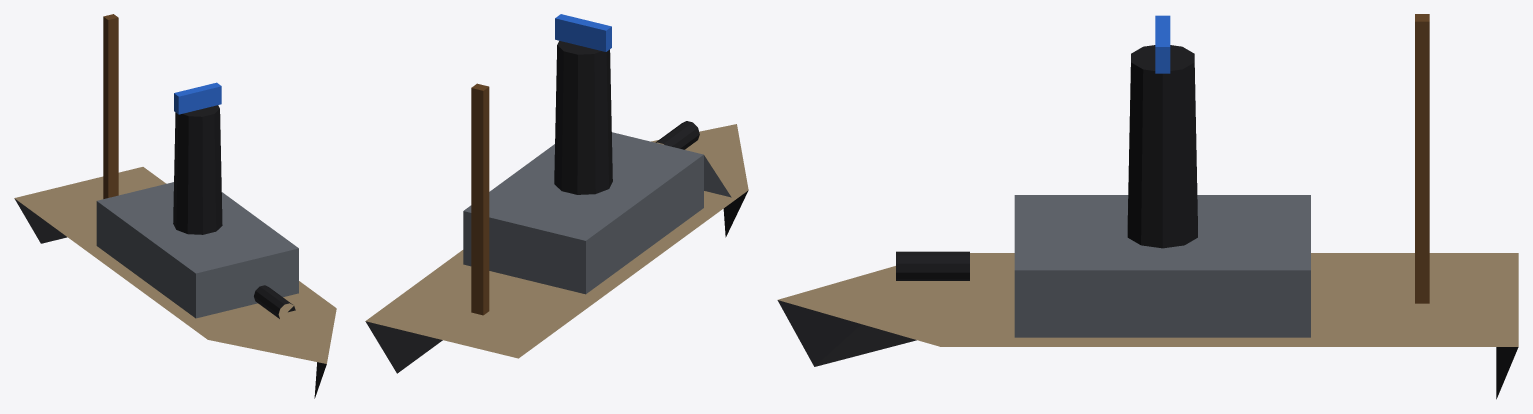
File: ironclad.glb
3 renders of one model, left to right at view 1: azimuth 30°, elevation 25°; view 2: azimuth 150°, elevation 25°; view 3: azimuth 270°, elevation 25°, orthographic. The views are drawn at different scales.
Visible parts, largest first — view 1: ironclad; view 2: ironclad; view 3: ironclad.
Part boxes in pixels (<box>): ironclad: <box>14,14,336,398</box>; ironclad: <box>365,14,748,373</box>; ironclad: <box>777,14,1518,399</box>.
Bounding box in the file's own units: 0.3 × 0.52 × 1.
